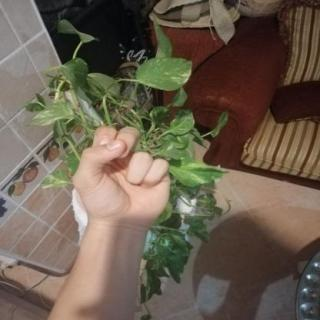QAAF: (62, 119, 184, 237)
